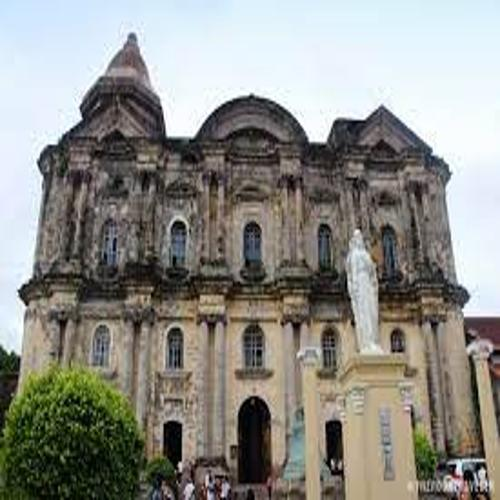Taal Basilica Church: (11, 27, 487, 494)
